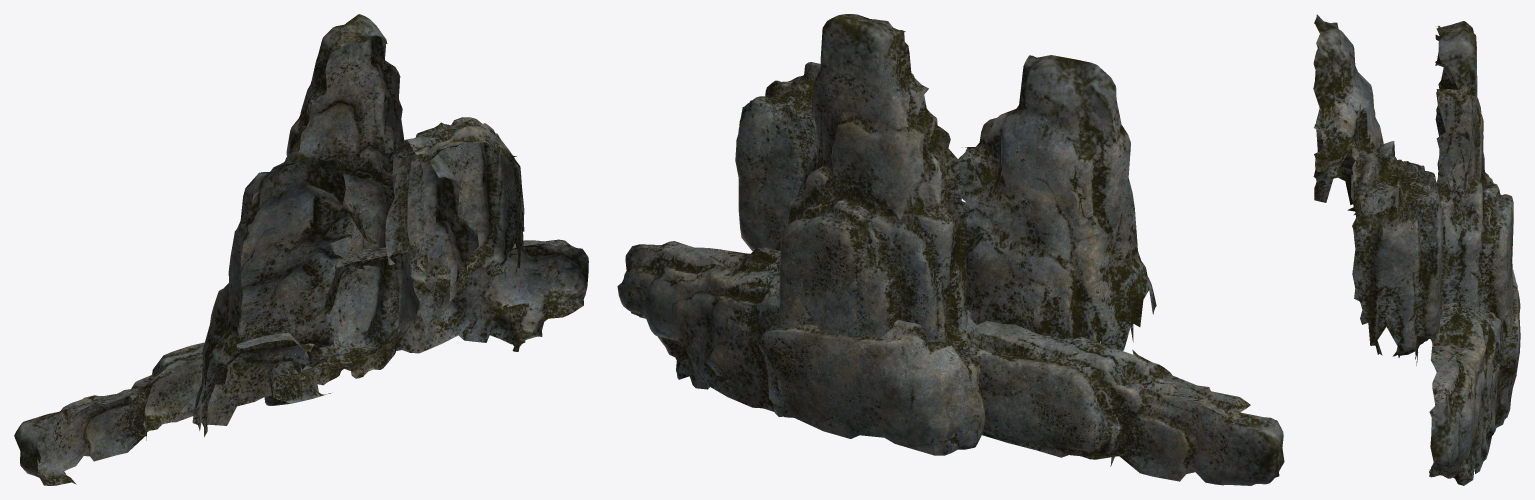
Rendered from wall.glb.
The picture shows the model from 3 angles, left to right: view 1: azimuth 30°, elevation 25°; view 2: azimuth 150°, elevation 25°; view 3: azimuth 270°, elevation 25°; orthographic projection. The views are drawn at different scales.
Visible parts, largest first — view 1: Rock_4.005; view 2: Rock_4.005; view 3: Rock_4.005.
Boxes of the visible parts, x1,y1,x2,y2 form: Rock_4.005: (14, 14, 588, 485); Rock_4.005: (617, 14, 1284, 485); Rock_4.005: (1313, 14, 1520, 485).
Bounding box in the file's own units: 89.52 × 53.58 × 26.62.
Materials: 1 (1 with a texture image).
